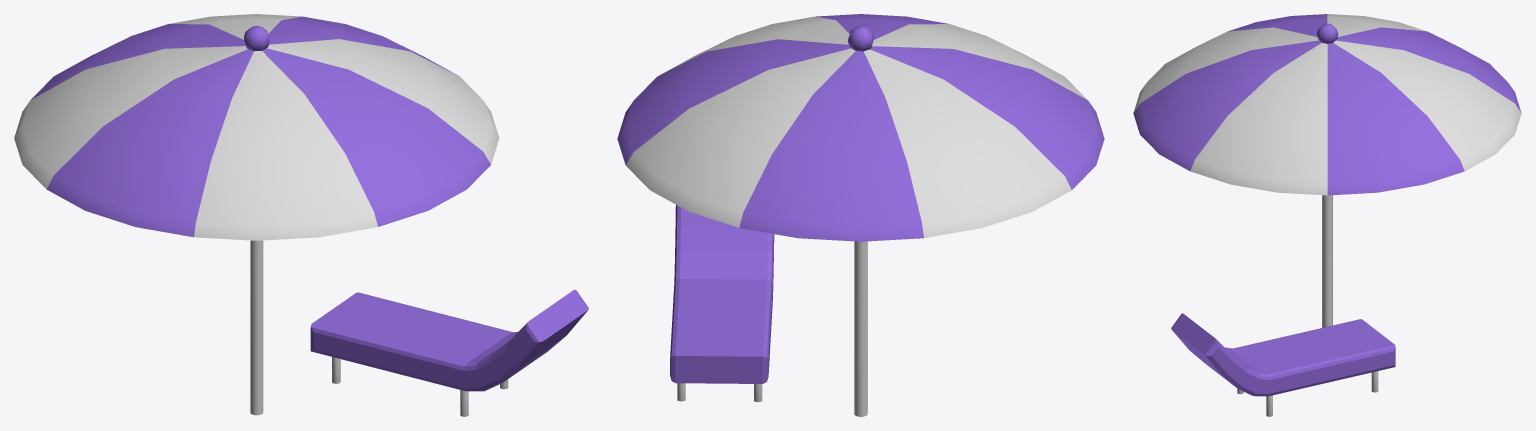
The model's file is guarda_sol_5.glb.
3 views of the same model, side by side, from view 1: azimuth 30°, elevation 25°; view 2: azimuth 150°, elevation 25°; view 3: azimuth 270°, elevation 25° (orthographic). The views are drawn at different scales.
Parts seen in each view (by area): view 1: guarda_sol_5_corpo; view 2: guarda_sol_5_corpo; view 3: guarda_sol_5_corpo.
Part boxes in pixels (x1,y1,x2,y2): guarda_sol_5_corpo: (14,14,588,416); guarda_sol_5_corpo: (617,14,1104,416); guarda_sol_5_corpo: (1133,14,1521,416).
Size of the model in its own units: 3.96 by 3.12 by 3.56.
